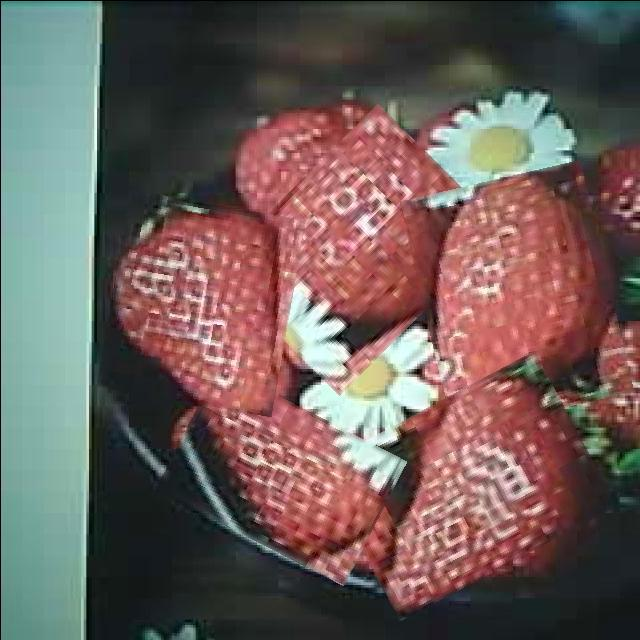strawberry: (240, 117, 476, 381), (332, 374, 604, 596), (412, 168, 622, 424), (165, 385, 398, 565), (104, 196, 298, 410)
